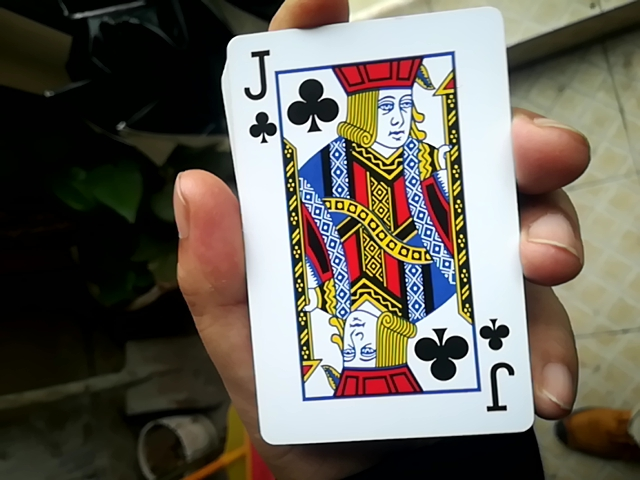mh j: (212, 16, 539, 434)
